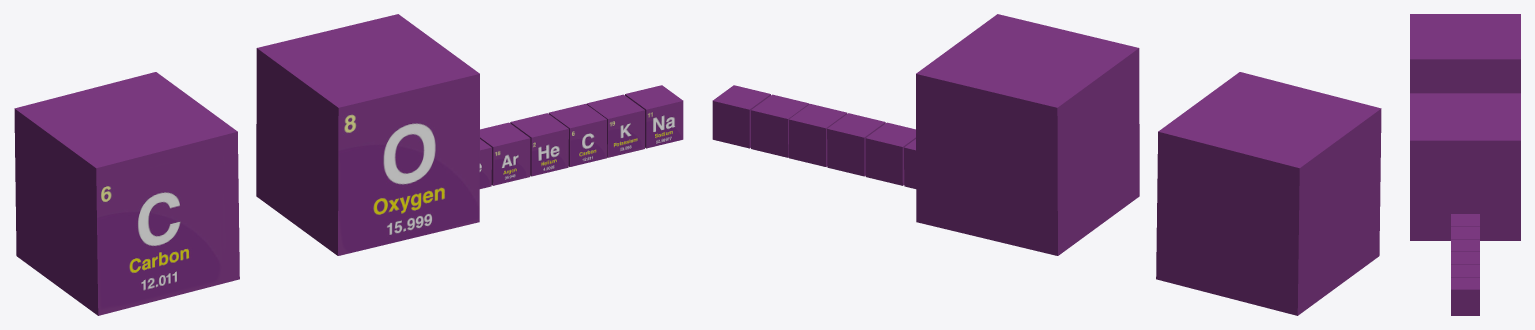
3 views of the same model, side by side, from view 1: azimuth 30°, elevation 25°; view 2: azimuth 150°, elevation 25°; view 3: azimuth 270°, elevation 25° (orthographic). The views are drawn at different scales.
Visible parts, largest first — view 1: polySurface10, polySurface3, polySurface7, polySurface5, polySurface8, polySurface9, polySurface6, polySurface4; view 2: polySurface10, polySurface3, polySurface7, polySurface5, polySurface8, polySurface9, polySurface6, polySurface4; view 3: polySurface3, polySurface10, polySurface5, polySurface6, polySurface9, polySurface4, polySurface7, polySurface8.
Part boxes in pixels (bbox=[...]): polySurface10: bbox=[14, 72, 239, 315]; polySurface3: bbox=[256, 14, 479, 255]; polySurface7: bbox=[510, 113, 568, 176]; polySurface5: bbox=[625, 85, 683, 148]; polySurface8: bbox=[548, 104, 606, 166]; polySurface9: bbox=[480, 122, 530, 185]; polySurface6: bbox=[586, 94, 644, 157]; polySurface4: bbox=[479, 139, 491, 188]; polySurface10: bbox=[1156, 72, 1381, 315]; polySurface3: bbox=[916, 14, 1139, 255]; polySurface7: bbox=[827, 113, 885, 176]; polySurface5: bbox=[712, 85, 770, 148]; polySurface8: bbox=[789, 104, 847, 166]; polySurface9: bbox=[865, 122, 915, 185]; polySurface6: bbox=[751, 94, 809, 157]; polySurface4: bbox=[904, 139, 916, 188]; polySurface3: bbox=[1410, 93, 1520, 240]; polySurface10: bbox=[1410, 14, 1520, 93]; polySurface5: bbox=[1451, 277, 1479, 315]; polySurface6: bbox=[1451, 264, 1479, 277]; polySurface9: bbox=[1451, 226, 1479, 239]; polySurface4: bbox=[1451, 214, 1479, 226]; polySurface7: bbox=[1451, 239, 1479, 251]; polySurface8: bbox=[1451, 252, 1479, 264].
Size of the model in its own units: 289 by 67.18 by 66.25.
1 material, 1 textured.
